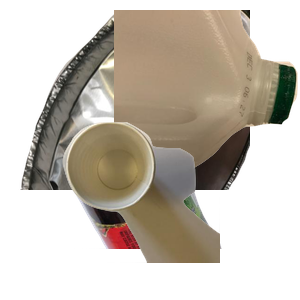glass: (66, 120, 300, 300)
metal: (18, 10, 258, 190)
plastic: (114, 10, 300, 179)
trash: (60, 120, 300, 300)
